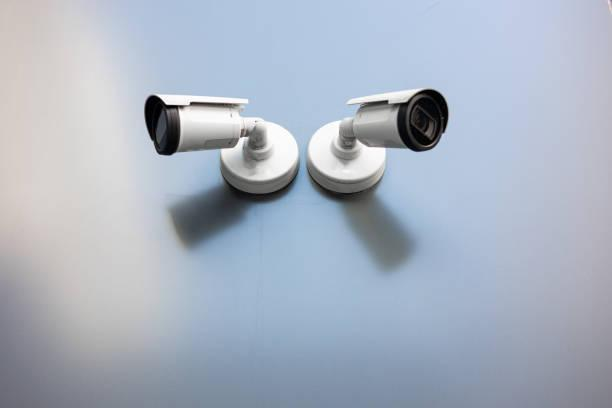camera: (307, 67, 452, 214), (129, 85, 303, 200)
